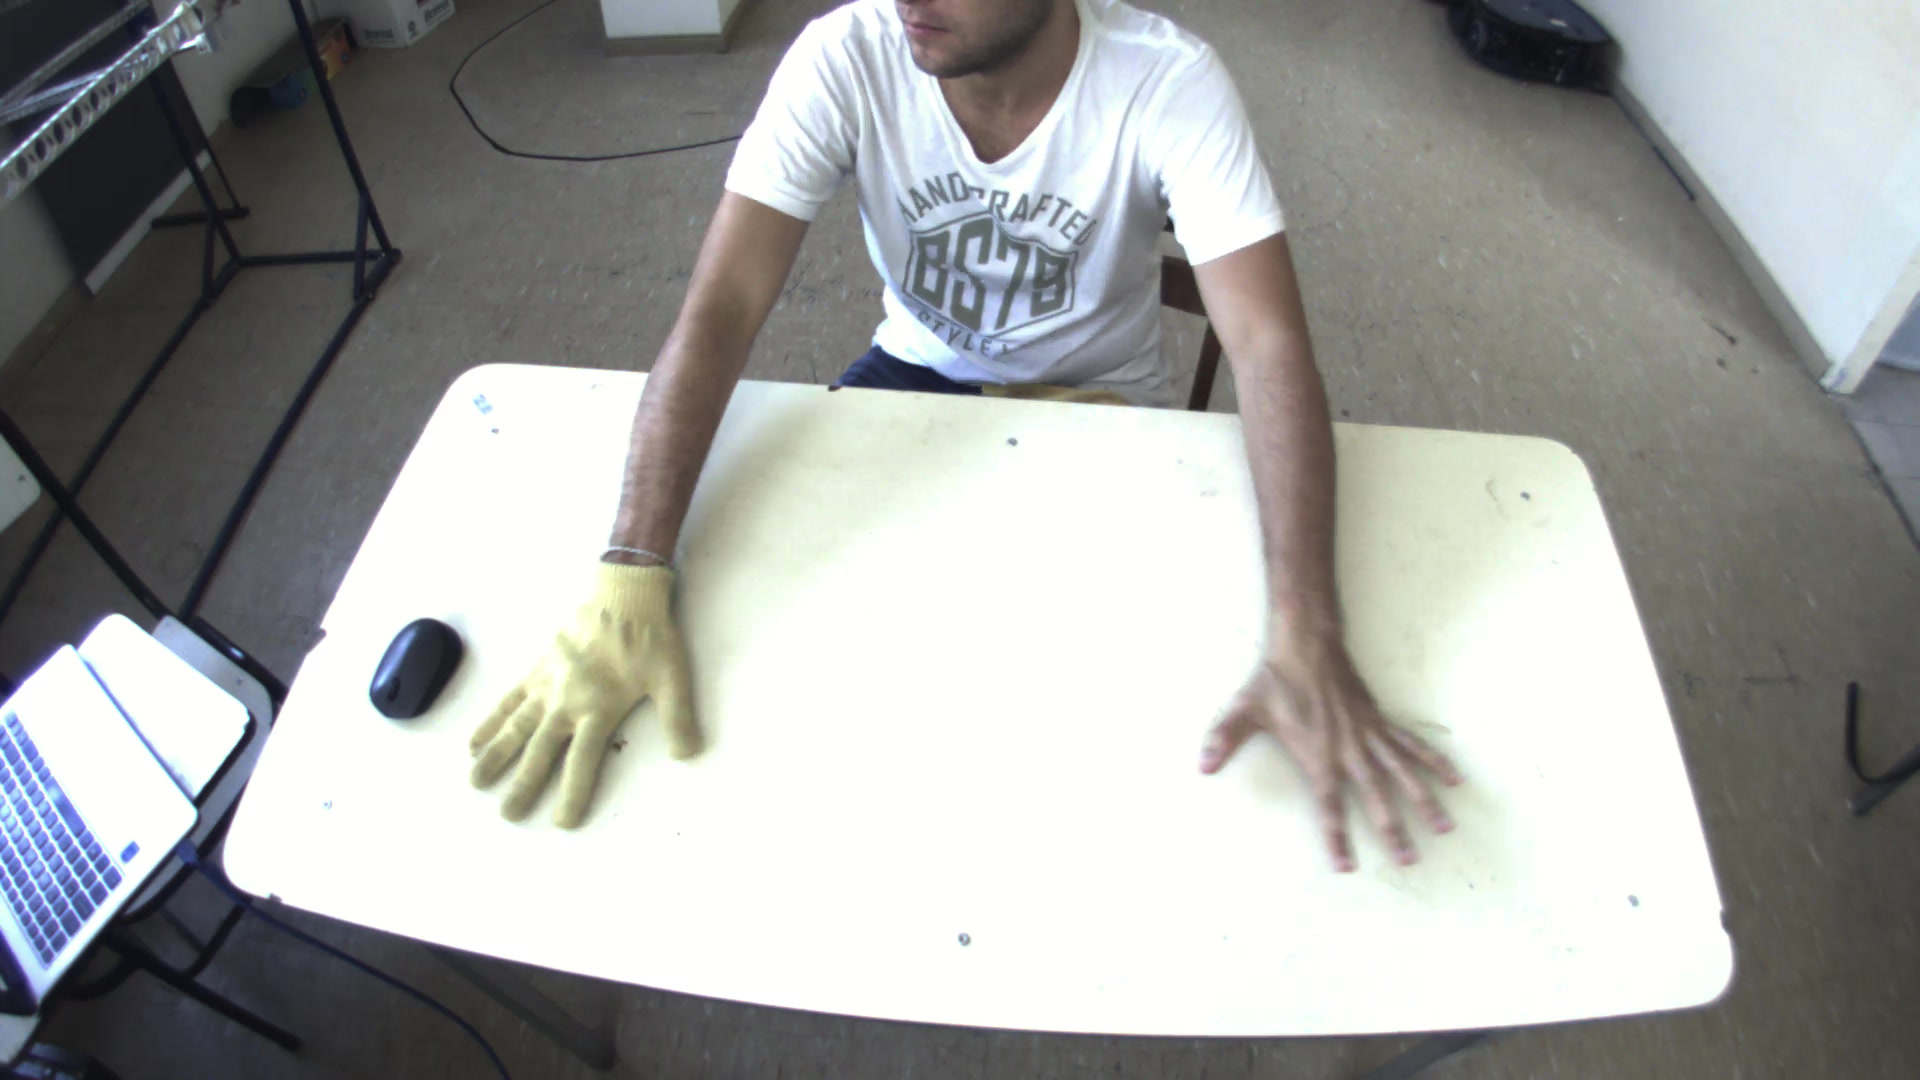hand: (446, 543, 712, 841), (1197, 640, 1491, 884)
